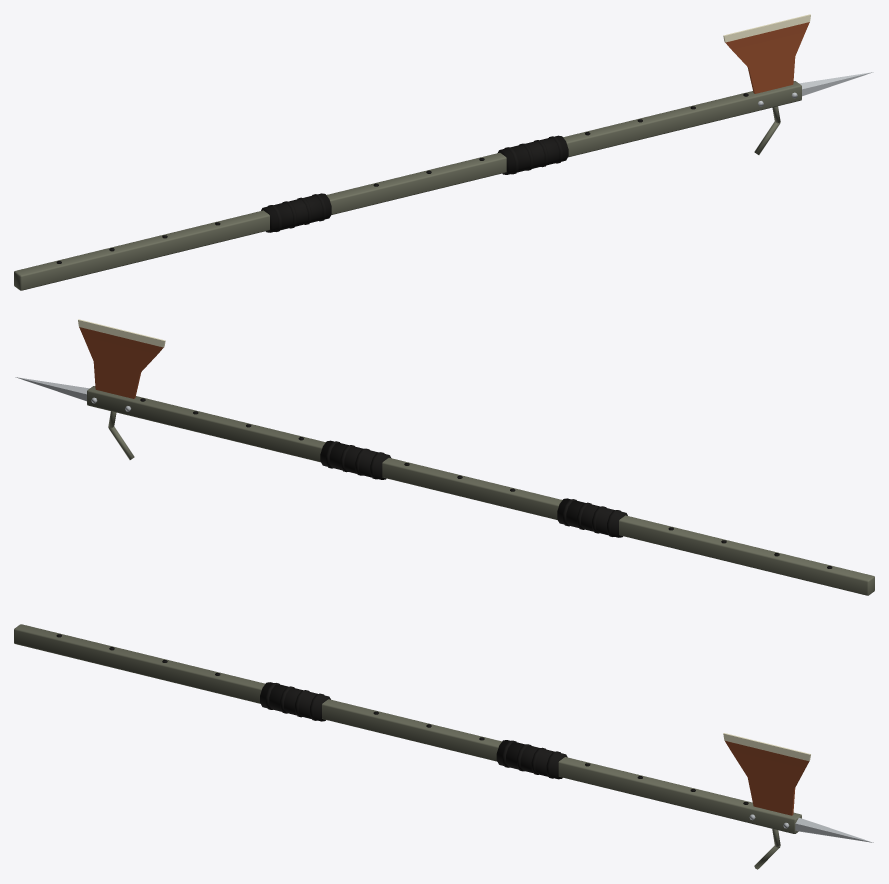
The model's file is item_sign_post_halberd.glb.
The picture shows the model from 3 angles, top to bottom: view 1: azimuth 30°, elevation 25°; view 2: azimuth 150°, elevation 25°; view 3: azimuth 330°, elevation 25°; orthographic projection.
Parts seen in each view (by area): view 1: post, blade, grip_left, grip, border, point; view 2: post, blade, grip_left, grip, border, point; view 3: post, blade, grip, grip_left, border, point.
Boxes of the visible parts, x1,y1,x2,y2 form: post: (14,81,801,290); blade: (725,22,809,93); grip_left: (497,135,568,174); grip: (261,193,331,232); border: (723,14,810,42); point: (799,72,873,96); post: (87,386,874,595); blade: (79,327,163,398); grip_left: (320,440,391,479); grip: (557,498,627,537); border: (78,319,165,347); point: (15,377,89,401); post: (14,624,801,833); blade: (725,741,809,815); grip: (260,682,330,721); grip_left: (496,740,567,779); border: (723,733,810,760); point: (795,817,873,842).
Size of the model in its own units: 2.03 by 0.2883 by 0.0544.
